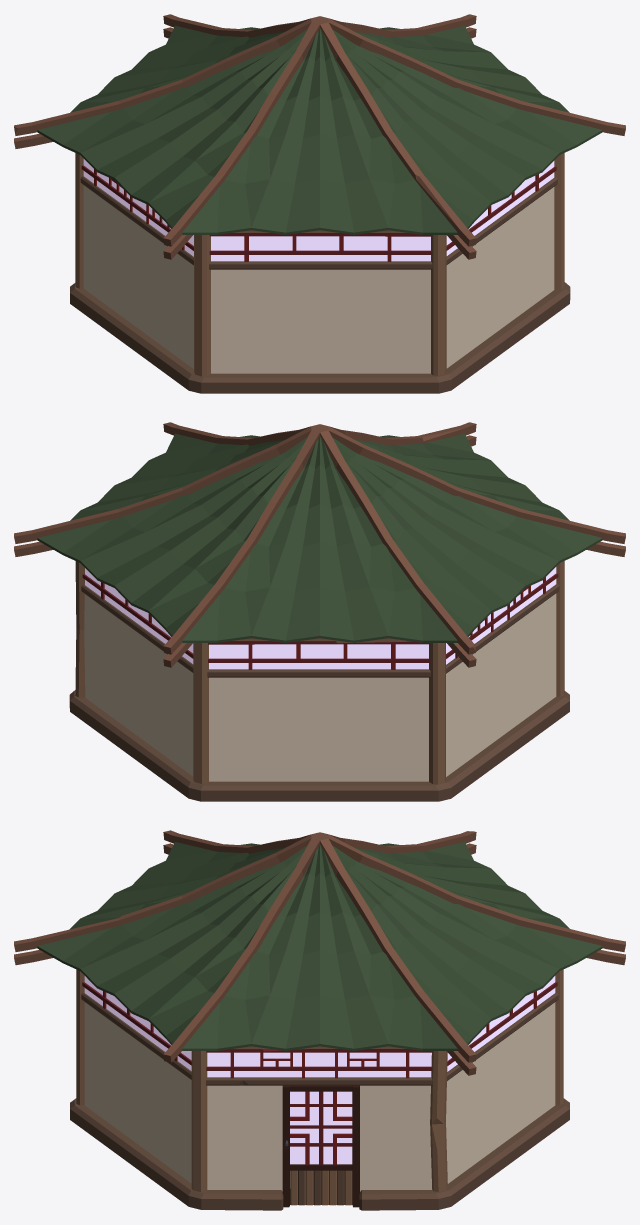
File: Building_11 Asia.fbx
3 views of the same model, one above another, from view 1: azimuth 30°, elevation 25°; view 2: azimuth 150°, elevation 25°; view 3: azimuth 270°, elevation 25° (orthographic).
Visible parts, largest first — view 1: Building_11; view 2: Building_11; view 3: Building_11.
Boxes of the visible parts, x1=… form: Building_11: x1=14, y1=14, x2=625, y2=393; Building_11: x1=14, y1=422, x2=625, y2=801; Building_11: x1=14, y1=830, x2=625, y2=1210.
Bounding box in the file's own units: 8.02 × 4.65 × 9.19.
